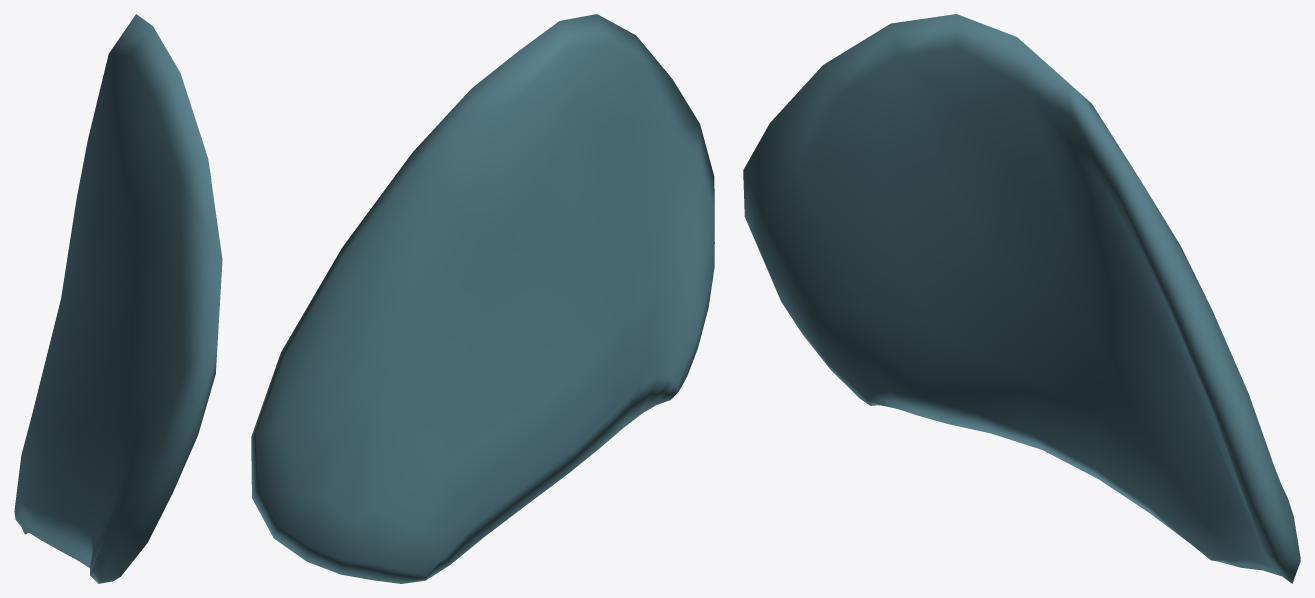
The model's file is Rectus_posterior_major_capitis_axis_right.glb.
3 renders of one model, left to right at view 1: azimuth 30°, elevation 25°; view 2: azimuth 150°, elevation 25°; view 3: azimuth 270°, elevation 25°, orthographic. The views are drawn at different scales.
Parts seen in each view (by area): view 1: Rectus_posterior_major_capitis_on_axis.r_Generated_Mesh_From; view 2: Rectus_posterior_major_capitis_on_axis.r_Generated_Mesh_From; view 3: Rectus_posterior_major_capitis_on_axis.r_Generated_Mesh_From.
Boxes of the visible parts, left/top/right/bottom form: Rectus_posterior_major_capitis_on_axis.r_Generated_Mesh_From: left=14, top=14, right=222, bottom=583; Rectus_posterior_major_capitis_on_axis.r_Generated_Mesh_From: left=251, top=14, right=714, bottom=583; Rectus_posterior_major_capitis_on_axis.r_Generated_Mesh_From: left=743, top=14, right=1300, bottom=583.
Size of the model in its own units: 0.00388 by 0.00686 by 0.00645.
